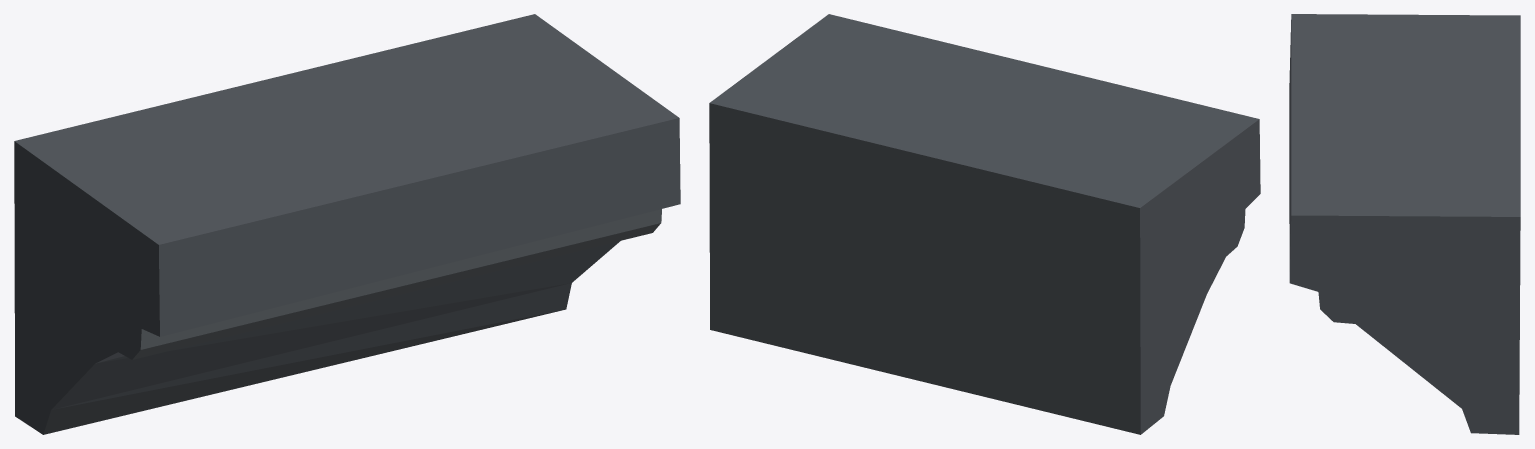
The model's file is MCastle_MasonryFixtures_07.FBX.
The picture shows the model from 3 angles, left to right: view 1: azimuth 30°, elevation 25°; view 2: azimuth 150°, elevation 25°; view 3: azimuth 270°, elevation 25°; orthographic projection. The views are drawn at different scales.
Visible parts, largest first — view 1: MCastle_MasonryFixtures_07_LOD0; view 2: MCastle_MasonryFixtures_07_LOD0; view 3: MCastle_MasonryFixtures_07_LOD0.
Part boxes in pixels (x1,y1,x2,y2): MCastle_MasonryFixtures_07_LOD0: [14, 14, 680, 434]; MCastle_MasonryFixtures_07_LOD0: [709, 14, 1260, 434]; MCastle_MasonryFixtures_07_LOD0: [1289, 14, 1520, 434].
Size of what is drawn, in the model's own units: 4 by 2.03 by 1.94.
